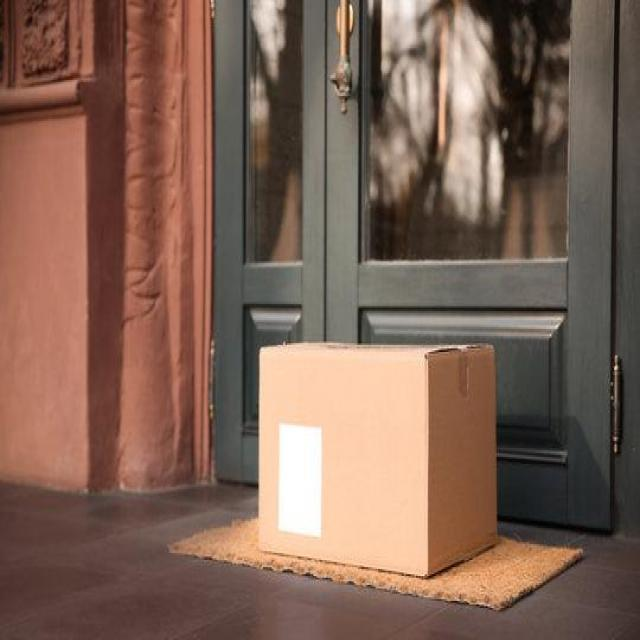box: (253, 334, 500, 580)
